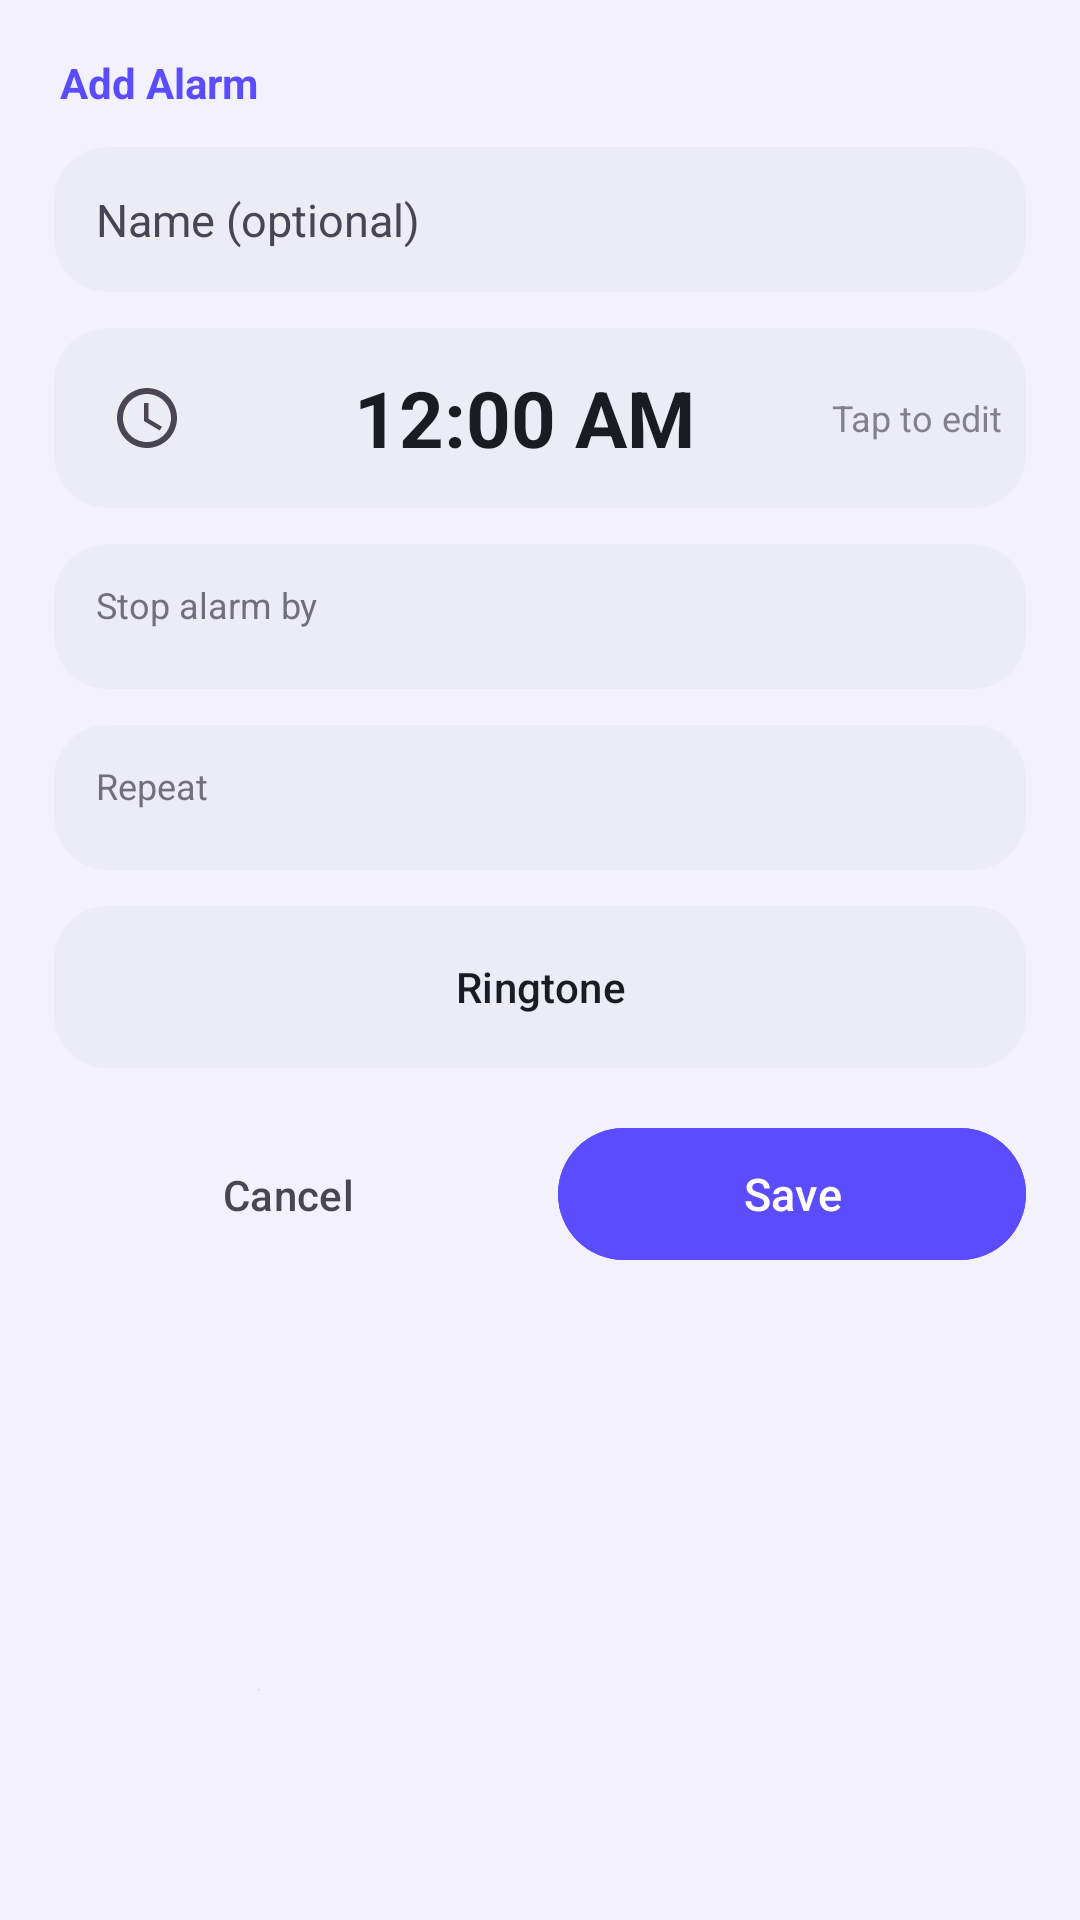

Point at icon controls on the screen. Image size 1080 × 1920, points as (x,y).
clock: (147,418)
